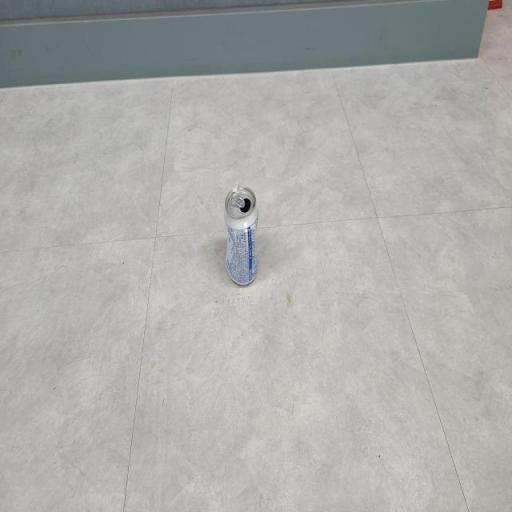metal: (213, 180, 279, 306)
